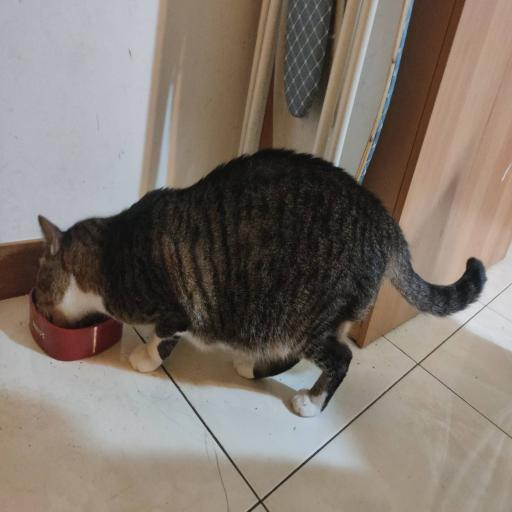cat: (39, 151, 473, 409)
